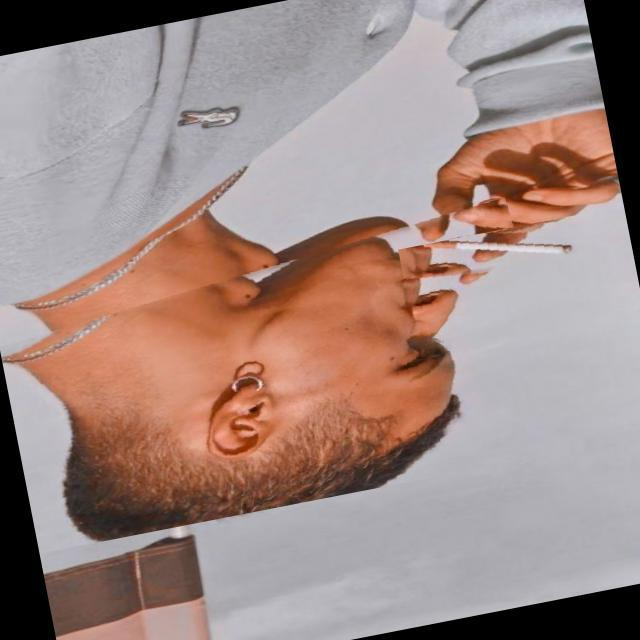cigarette: (398, 212, 600, 300)
